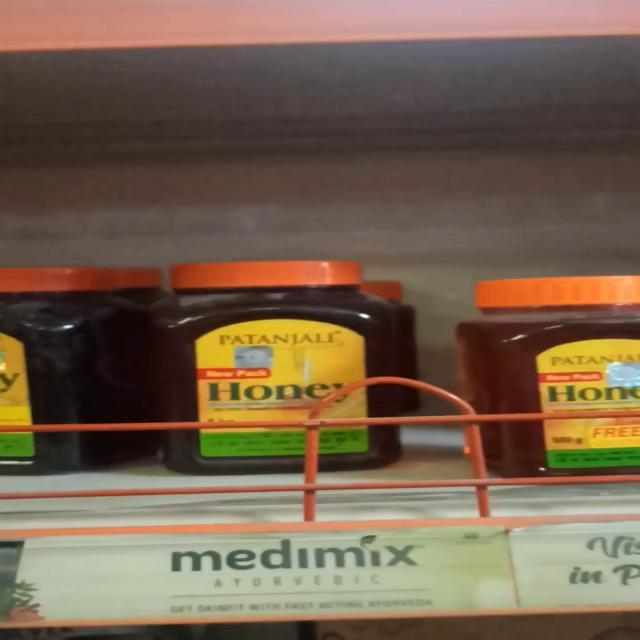Patanjali Honey: (178, 256, 412, 472)
